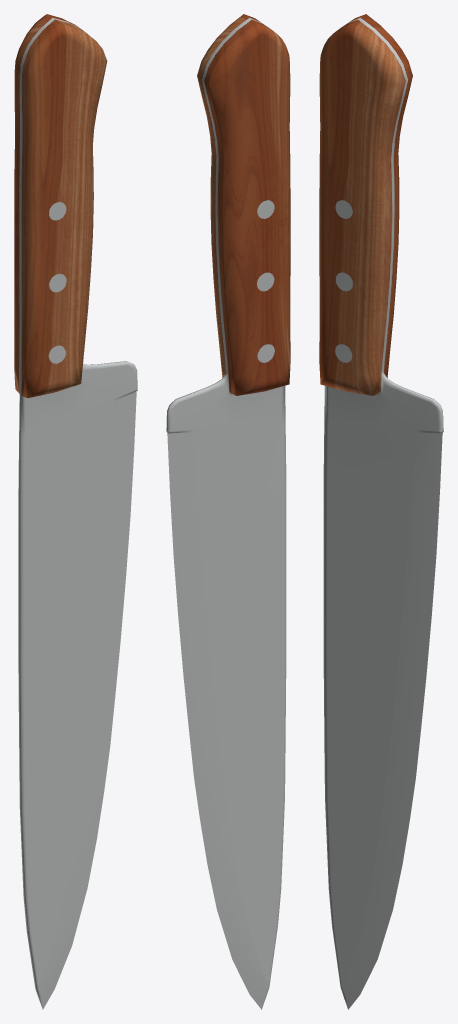
The model's file is faca_low.fbx.
3 views of the same model, side by side, from view 1: azimuth 30°, elevation 25°; view 2: azimuth 210°, elevation 25°; view 3: azimuth 330°, elevation 25° (orthographic).
Visible parts, largest first — view 1: faca_low; view 2: faca_low; view 3: faca_low.
Part boxes in pixels (x1,y1,x2,y2): faca_low: [14, 14, 137, 1009]; faca_low: [166, 14, 290, 1009]; faca_low: [319, 14, 443, 1009].
Size of the model in its own units: 15.45 by 124 by 4.35.
